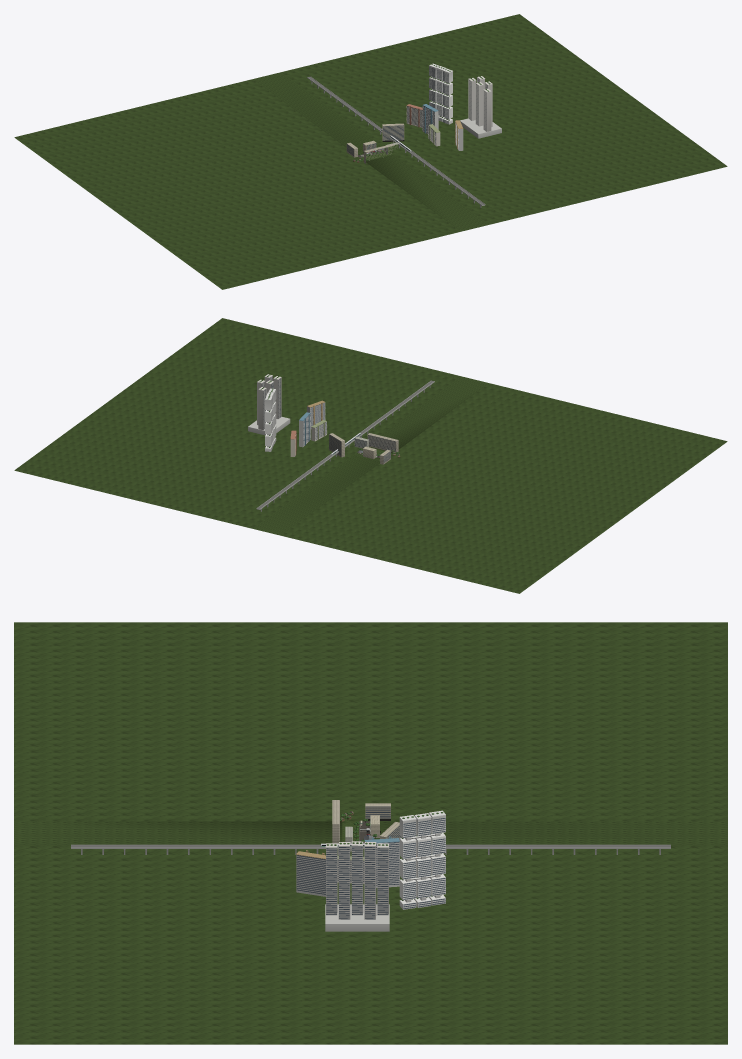
The model's file is kopitiam-mobile.glb.
3 renders of one model, top to bottom at view 1: azimuth 30°, elevation 25°; view 2: azimuth 150°, elevation 25°; view 3: azimuth 270°, elevation 25°, orthographic. The views are drawn at different scales.
Parts seen in each view (by area): view 1: Kopitiam_Static, NOW_Skyline, THEN_Estate; view 2: Kopitiam_Static, NOW_Skyline, THEN_Estate; view 3: Kopitiam_Static, NOW_Skyline, THEN_Estate.
Part boxes in pixels (left/top/right/bottom): Kopitiam_Static: left=14, top=14, right=727, bottom=289; NOW_Skyline: left=307, top=63, right=501, bottom=207; THEN_Estate: left=346, top=123, right=404, bottom=162; Kopitiam_Static: left=14, top=318, right=727, bottom=593; NOW_Skyline: left=248, top=374, right=434, bottom=511; THEN_Estate: left=329, top=433, right=400, bottom=464; Kopitiam_Static: left=14, top=622, right=727, bottom=1044; NOW_Skyline: left=71, top=810, right=670, bottom=931; THEN_Estate: left=340, top=803, right=401, bottom=842.
Size of the model in its own units: 1400 by 139 by 1000.
Materials: 16 (10 with a texture image).
